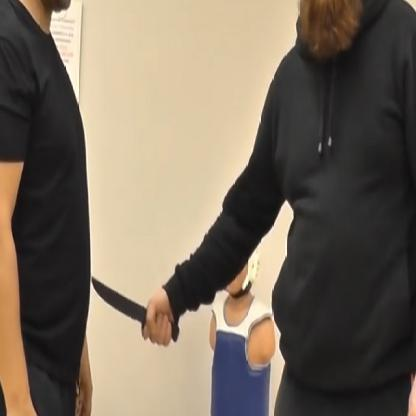knife: (90, 271, 181, 350)
